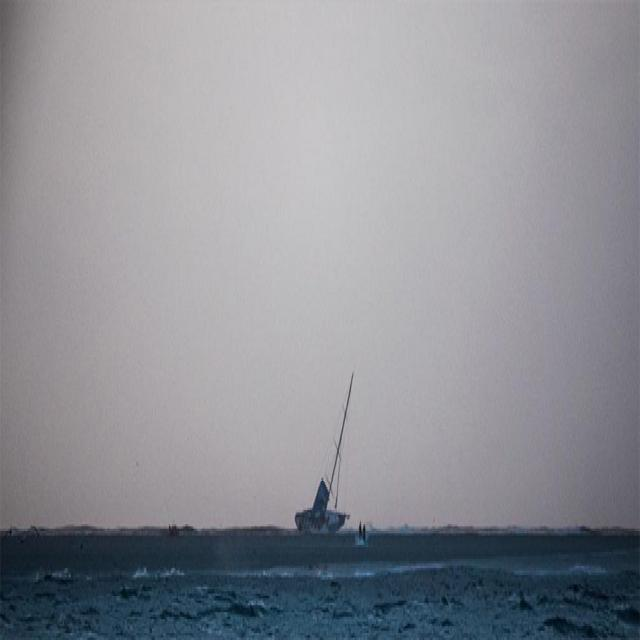sailboat: (293, 361, 360, 534)
